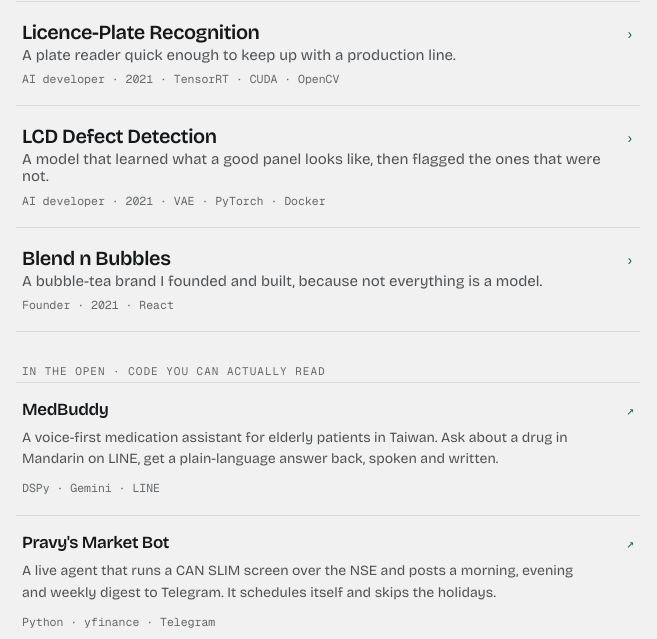
Test: Field notes › toggles a row open and reveals its repo link with safe rel
(page scrolled)
Click the button "Blend n Bubbles" at (328, 280), box 16,228 -> 640,331
(page scrolled)
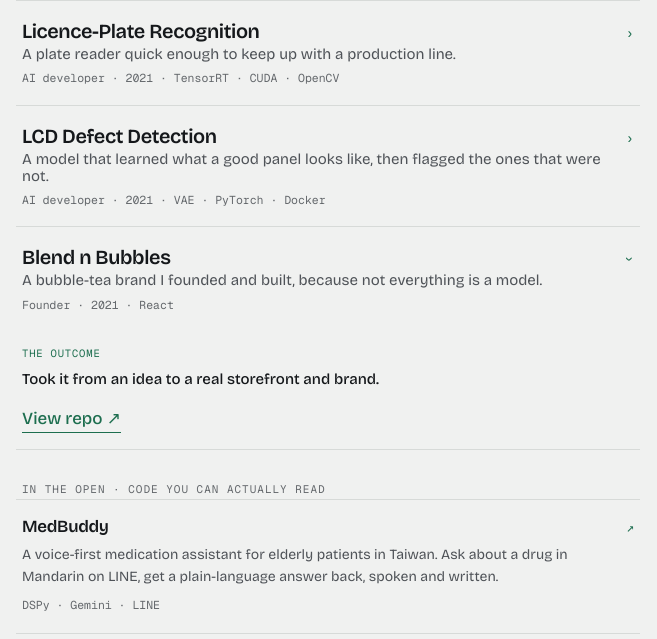
Expected: the button "Blend n Bubbles" is expanded, 16,227 -> 640,331
